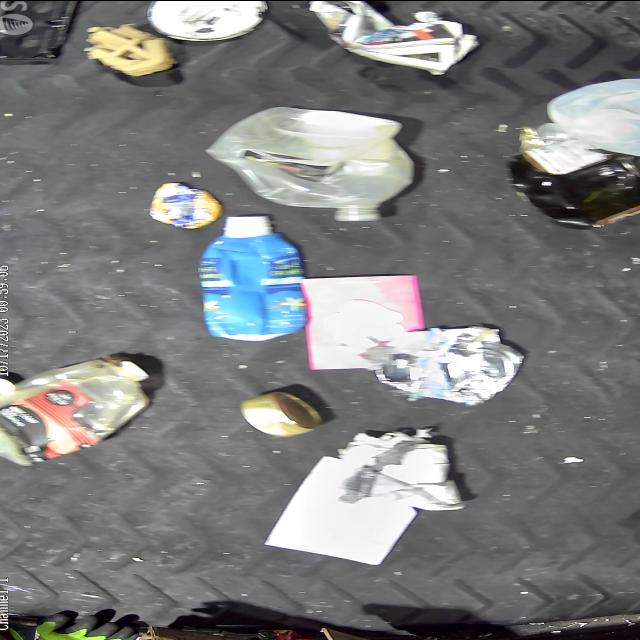can: (240, 392, 326, 438)
milk_jug: (550, 77, 640, 157)
non_white_jug: (202, 106, 414, 220), (198, 215, 306, 339)
plastic_bottle: (0, 355, 150, 467)
